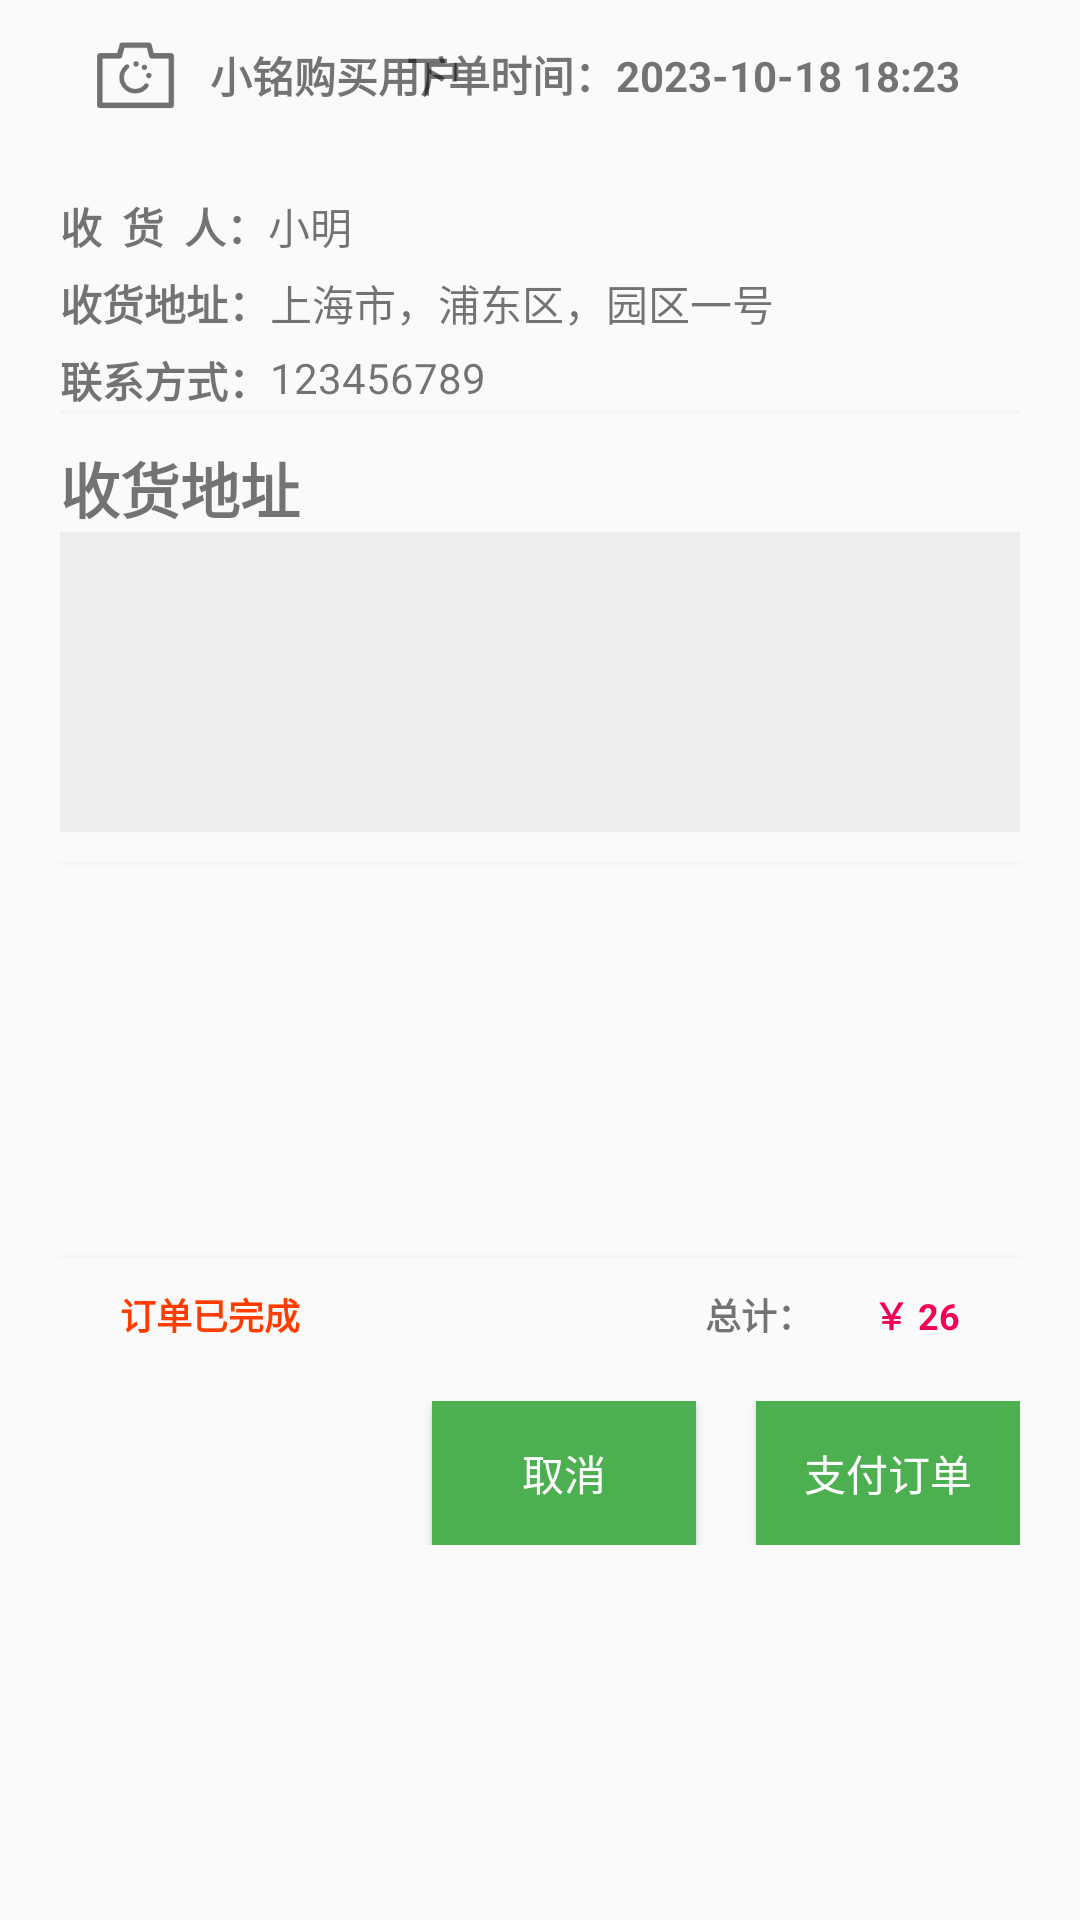

Where to tap for icons on this 1080w x 1920h app screen, as [x,y]:
upimg: [135,75]
